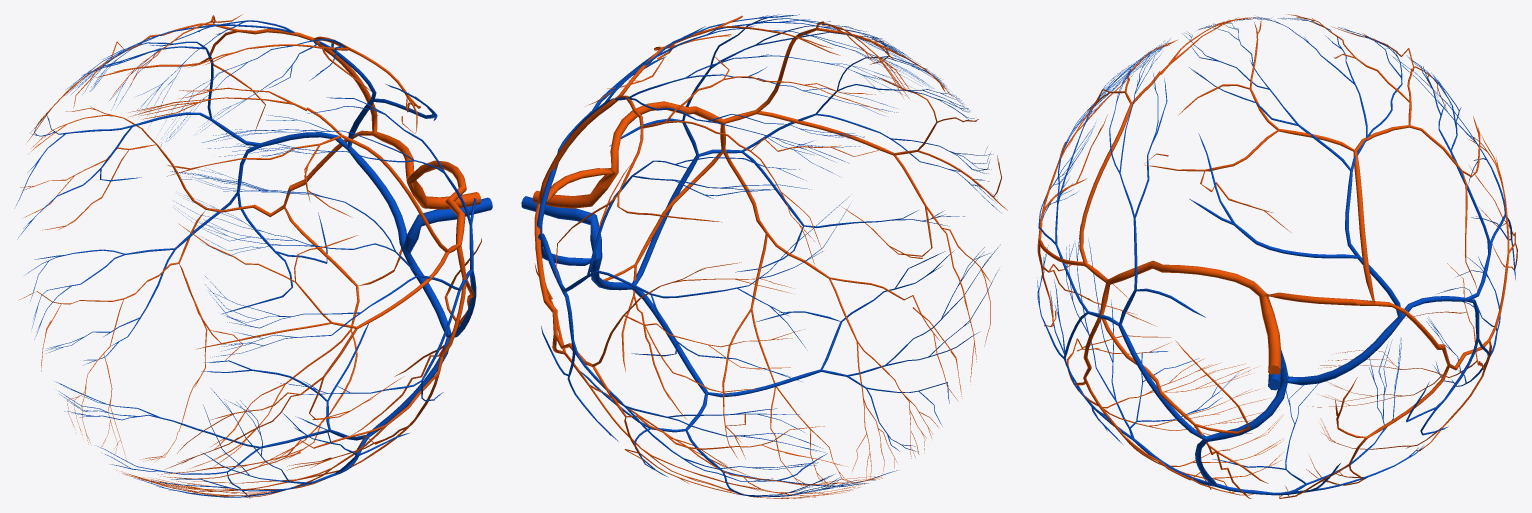
File: ColliderVeins.fbx
The picture shows the model from 3 angles, left to right: view 1: azimuth 30°, elevation 25°; view 2: azimuth 150°, elevation 25°; view 3: azimuth 270°, elevation 25°; orthographic projection.
Parts seen in each view (by area): view 1: Eye:VeinsMesh, Eye:ArteriesMesh; view 2: Eye:ArteriesMesh, Eye:VeinsMesh; view 3: Eye:ArteriesMesh, Eye:VeinsMesh.
Part boxes in pixels (bbox=[...]): Eye:VeinsMesh: bbox=[14, 20, 492, 498]; Eye:ArteriesMesh: bbox=[18, 14, 481, 497]; Eye:ArteriesMesh: bbox=[532, 15, 1007, 498]; Eye:VeinsMesh: bbox=[521, 14, 1000, 496]; Eye:ArteriesMesh: bbox=[1037, 14, 1517, 498]; Eye:VeinsMesh: bbox=[1037, 16, 1515, 495].
Bounding box in the file's own units: 1.53 × 1.64 × 1.63.
